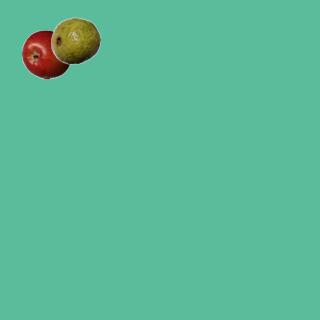Apple Braeburn: (21, 29, 71, 79)
Guava: (50, 15, 100, 65)
